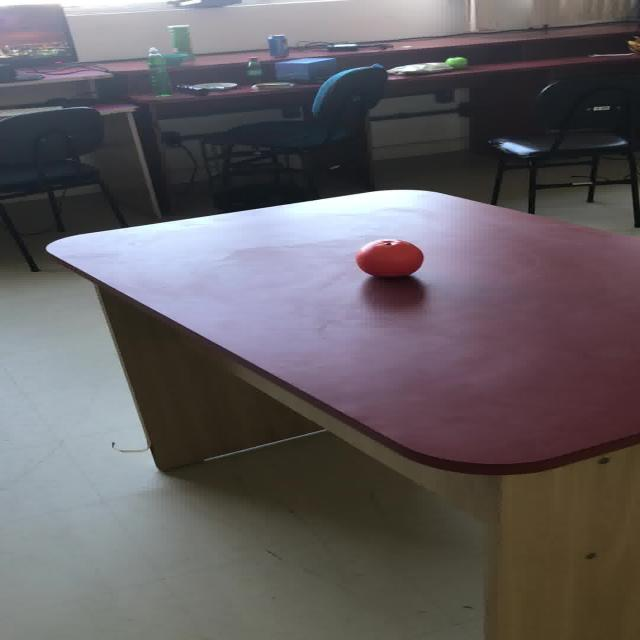orange: (354, 238, 423, 277), (444, 56, 466, 69)
